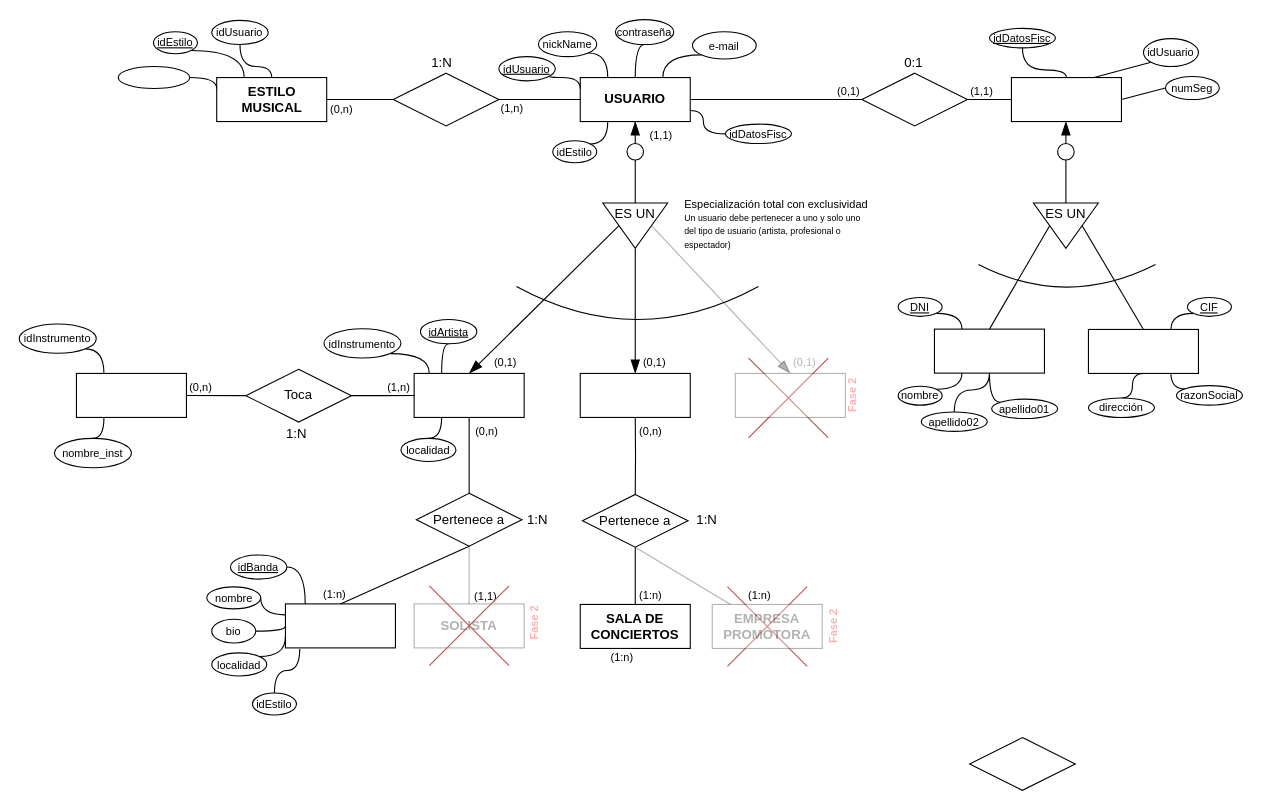
The diagram is 1262 pixels wide and 810 high, and some of its shapes have lost their labels. Each missing label, with the box of its shape:
ARTISTA: (413, 372, 524, 417)
BANDA: (284, 603, 395, 648)
DATOS FISCALES: (1010, 76, 1121, 122)
EMPRESA: (1087, 328, 1198, 373)
ESPECTADOR: (734, 372, 845, 417)
FREELANCE: (933, 328, 1044, 373)
INSTRUMENTO: (75, 372, 186, 417)
Le gusta: (392, 72, 499, 126)
nombreEstilo: (117, 65, 190, 89)
Organizan: (969, 736, 1075, 790)
PROMOTOR: (579, 372, 690, 417)
Tiene: (861, 72, 967, 126)
